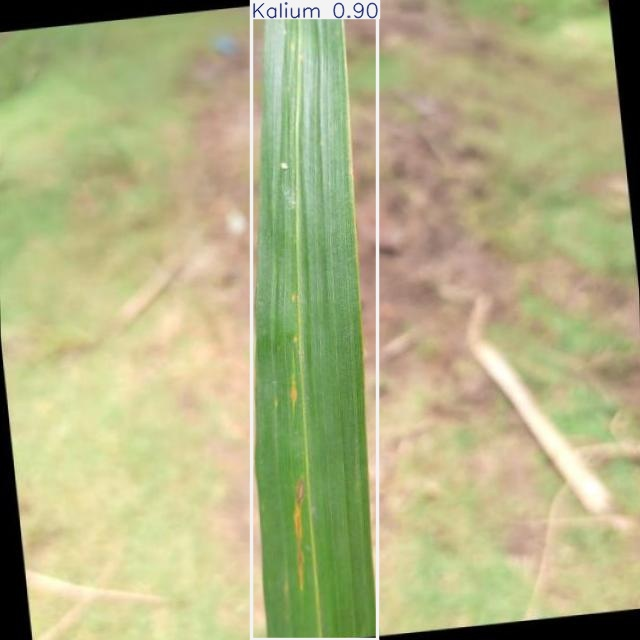Kalium: (252, 0, 378, 640)
